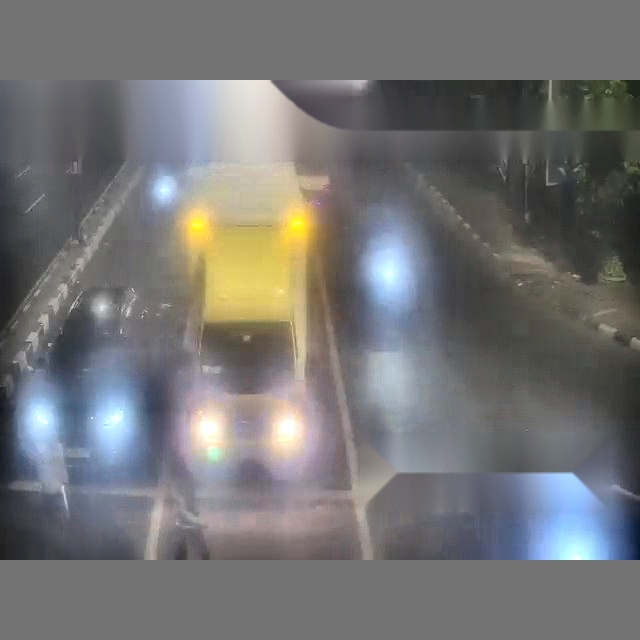Truk: (182, 82, 321, 477)
